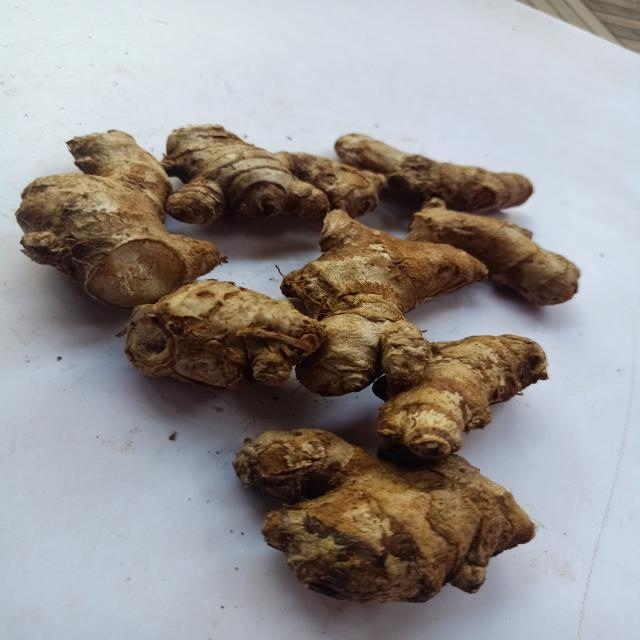Ginger: (233, 429, 535, 604), (281, 210, 488, 396), (14, 130, 220, 309), (161, 124, 387, 223), (124, 280, 324, 389), (378, 335, 548, 459), (407, 197, 581, 305), (335, 134, 533, 212)
